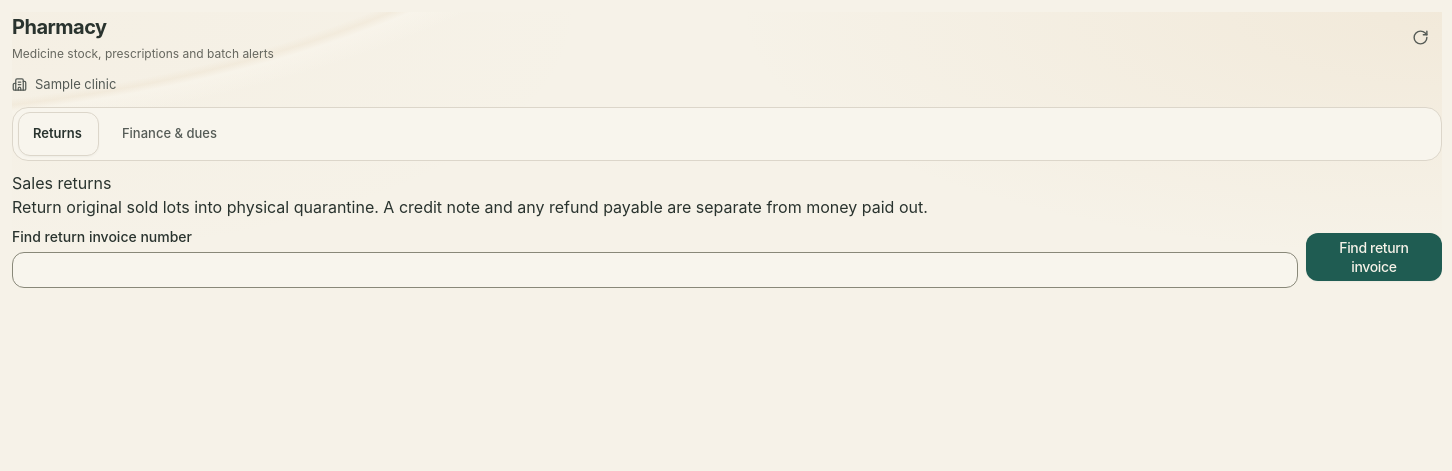
exposes finance for refund staff without clinical billing or inventory grants
Click the tab "Finance & dues": (169, 134) [106,112,233,156]
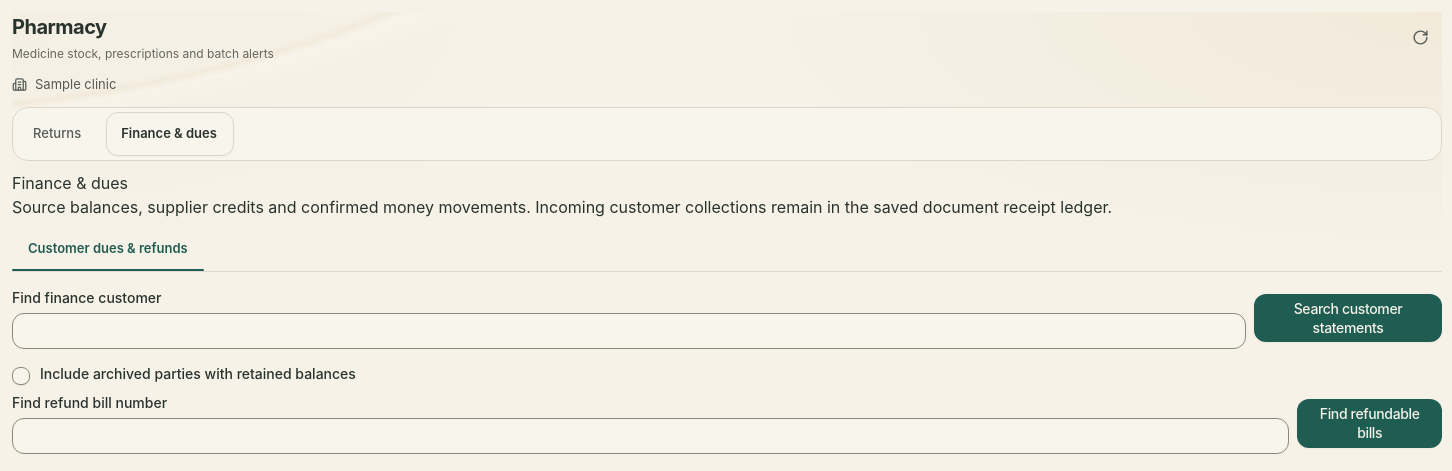
Result: the element named "Pharmacy finance and dues" is shown at [12,170,1442,454]
Result: the button "Find refundable bills" is shown at [1297,399,1442,448]
